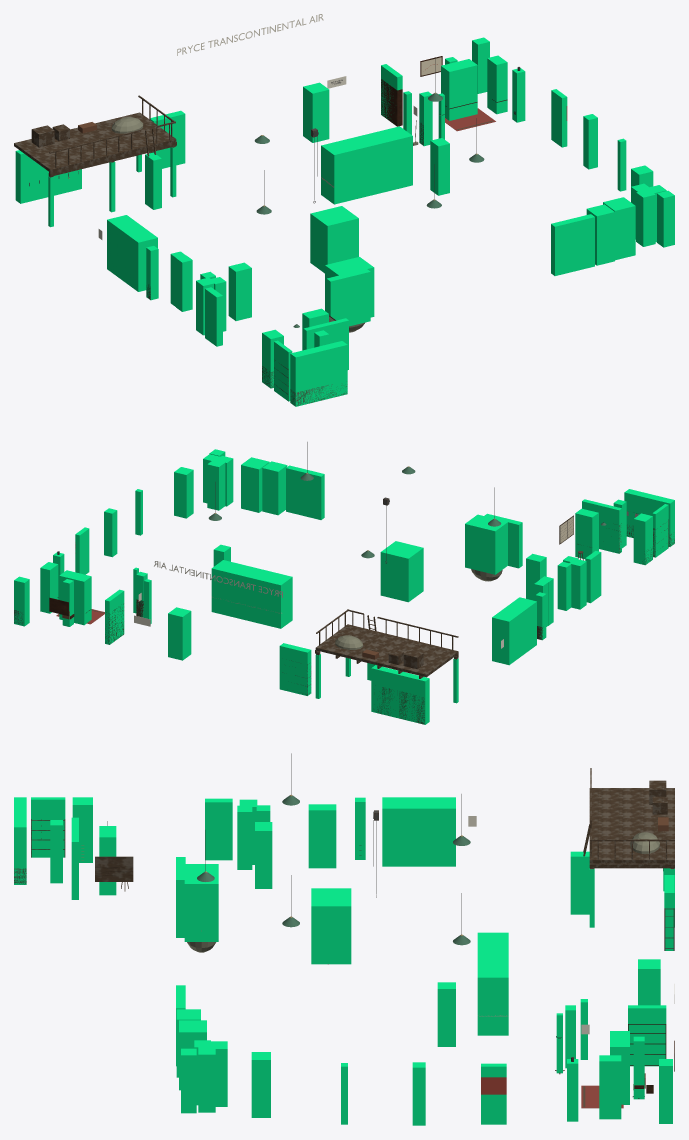
Rendered from hangar_props_30m.glb.
3 views of the same model, one above another, from view 1: azimuth 30°, elevation 25°; view 2: azimuth 150°, elevation 25°; view 3: azimuth 270°, elevation 25° (orthographic). The views are drawn at different scales.
Visible parts, largest first — view 1: Loft, COL_Wing, COL_Dark_Sink, COL_Workbench, COL_Engine, COL_Sandbags_1, COL_Sandbags_-1, COL_Lockers, COL_Office_Desk, COL_Crate_4, COL_Drum_10, COL_Crate_1 (+21 smaller); view 2: Loft, COL_Wing, COL_Lockers, COL_Workbench, COL_Engine, COL_TarpPile, COL_Sandbags_1, COL_Shelving, COL_Dark_Sink, COL_Survey_Shelf, COL_Crate_2, COL_Crate_4 (+20 smaller); view 3: Loft, COL_Workbench, COL_Wing, COL_Engine, COL_TarpPile, COL_Office_Bookshelf, COL_JerryCans, COL_Dark_Shelves, COL_Office_Gramophone, COL_Tyres, COL_Ladder, COL_StepLadder (+25 smaller).
Part boxes in pixels (x1,y1,x2,y2): Loft: (14,95,176,177); COL_Wing: (321,126,412,204); COL_Dark_Sink: (290,341,347,406); COL_Workbench: (107,215,157,291); COL_Engine: (310,206,358,273); COL_Sandbags_1: (551,214,594,275); COL_Sandbags_-1: (326,269,370,326); COL_Lockers: (15,150,81,203); COL_Office_Desk: (441,59,477,120); COL_Crate_4: (303,82,329,142); COL_Drum_10: (228,262,251,320); COL_Crate_1: (603,197,635,260); Loft: (315,609,458,678); COL_Wing: (211,560,292,628); COL_Lockers: (371,665,429,724); COL_Workbench: (492,597,536,665); COL_Engine: (380,541,423,602); COL_TarpPile: (465,514,507,574); COL_Sandbags_1: (286,465,324,519); COL_Shelving: (279,643,311,695); COL_Dark_Sink: (624,489,674,546); COL_Survey_Shelf: (582,499,621,553); COL_Crate_2: (262,461,287,515); COL_Crate_4: (168,607,191,660); Loft: (583,768,674,869); COL_Workbench: (382,797,455,866); COL_Wing: (477,932,508,1035); COL_Engine: (311,888,351,964); COL_TarpPile: (184,864,218,941); COL_Office_Bookshelf: (628,1005,666,1066); COL_JerryCans: (205,798,232,860); COL_Dark_Shelves: (31,797,65,857); COL_Office_Gramophone: (599,1055,621,1119); COL_Tyres: (251,1052,270,1117); COL_Ladder: (570,851,589,914); COL_StepLadder: (437,982,455,1046).
Bounding box in the file's own units: 30.03 × 8.8 × 31.
52 materials, 6 textured.
